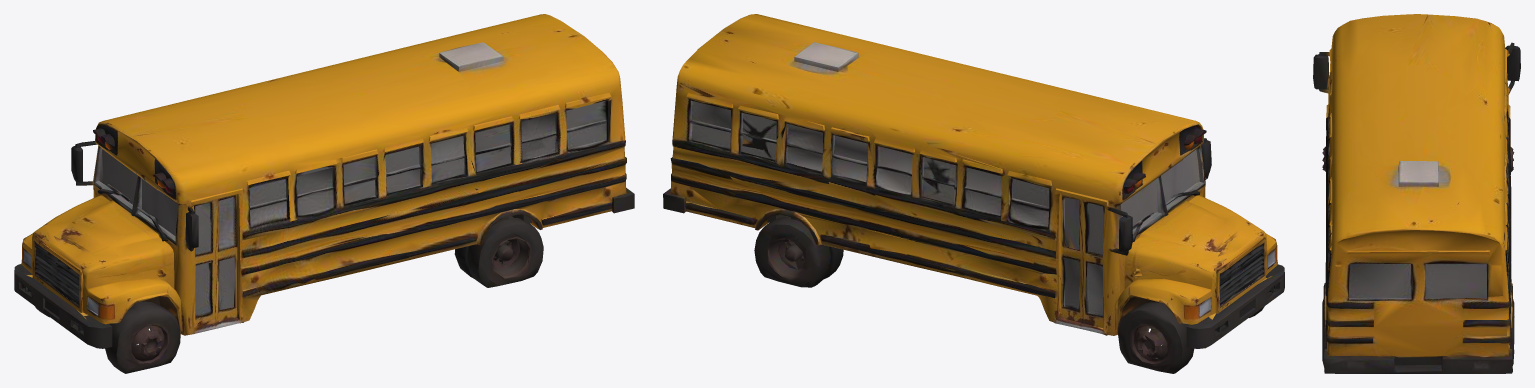
File: bus_school.glb
3 views of the same model, side by side, from view 1: azimuth 30°, elevation 25°; view 2: azimuth 150°, elevation 25°; view 3: azimuth 270°, elevation 25° (orthographic).
Visible parts, largest first — view 1: body, door_2, door_1, wheel_3, wheel_1; view 2: body, wheel_2, wheel_4; view 3: body.
Boxes of the visible parts, box(x1,y1,x2,y2) form: body: box(14, 14, 634, 373); door_2: box(214, 195, 237, 322); door_1: box(194, 200, 215, 327); wheel_3: box(486, 235, 534, 285); wheel_1: box(125, 319, 173, 370); body: box(663, 14, 1284, 373); wheel_2: box(1125, 320, 1173, 371); wheel_4: box(768, 238, 805, 286); body: box(1313, 14, 1520, 373).
Bounding box in the file's own units: 11 × 3.8 × 3.72.
Materials: 4 (4 with a texture image).
